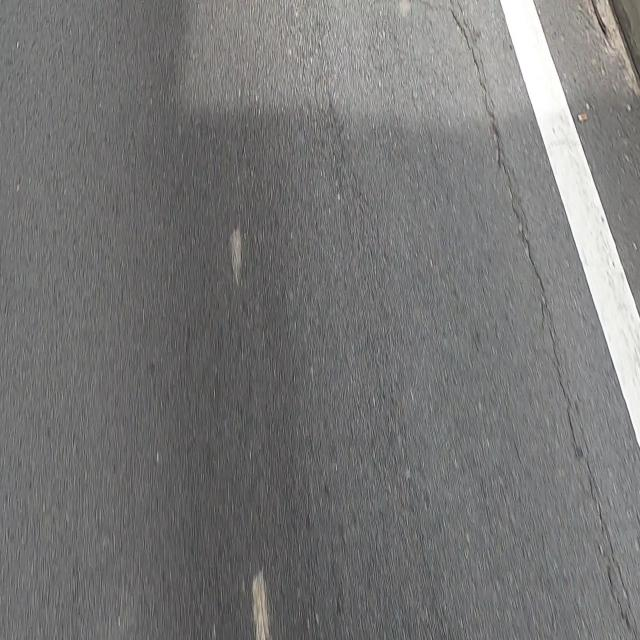Retak-Memanjang: (449, 13, 576, 459), (585, 435, 637, 625)
